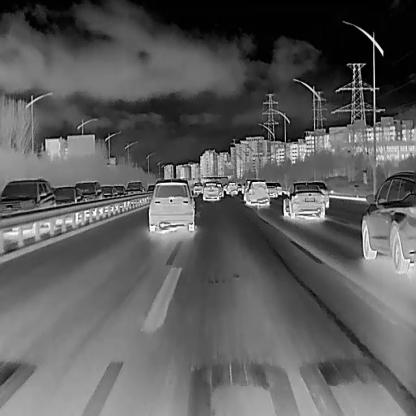car: (360, 171, 416, 273), (147, 178, 196, 232), (0, 177, 56, 220), (282, 180, 324, 218), (51, 184, 84, 209), (242, 180, 270, 205), (75, 180, 103, 202), (314, 180, 328, 207), (202, 182, 219, 201), (125, 180, 144, 196), (264, 181, 277, 197), (100, 184, 113, 200), (113, 184, 126, 196), (191, 180, 202, 194), (226, 180, 236, 194), (146, 184, 156, 194), (274, 182, 281, 193)
